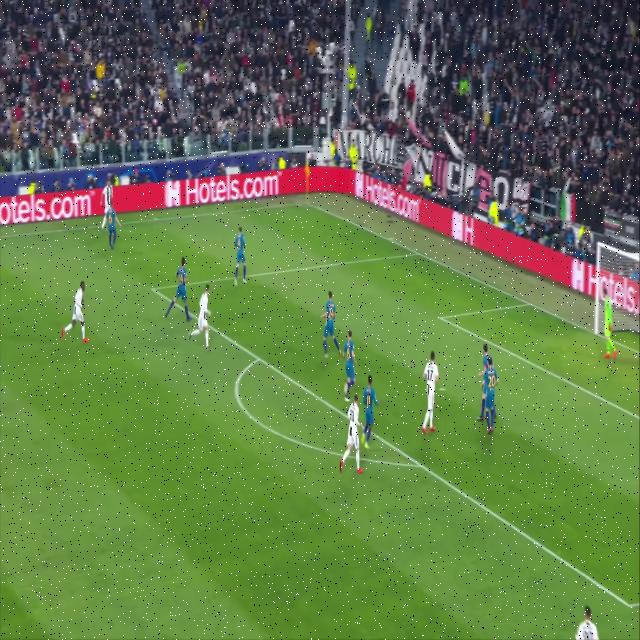GoalKeeper: (600, 286, 616, 367)
TEAM 1: (59, 281, 90, 345), (343, 394, 364, 480), (187, 282, 213, 350), (422, 352, 441, 438), (572, 605, 602, 640), (99, 180, 113, 237)
TEAM 2: (167, 256, 190, 323), (361, 377, 379, 446), (322, 288, 338, 357), (484, 362, 498, 439), (342, 332, 356, 402), (233, 227, 248, 288), (479, 344, 489, 420), (108, 202, 118, 251)
